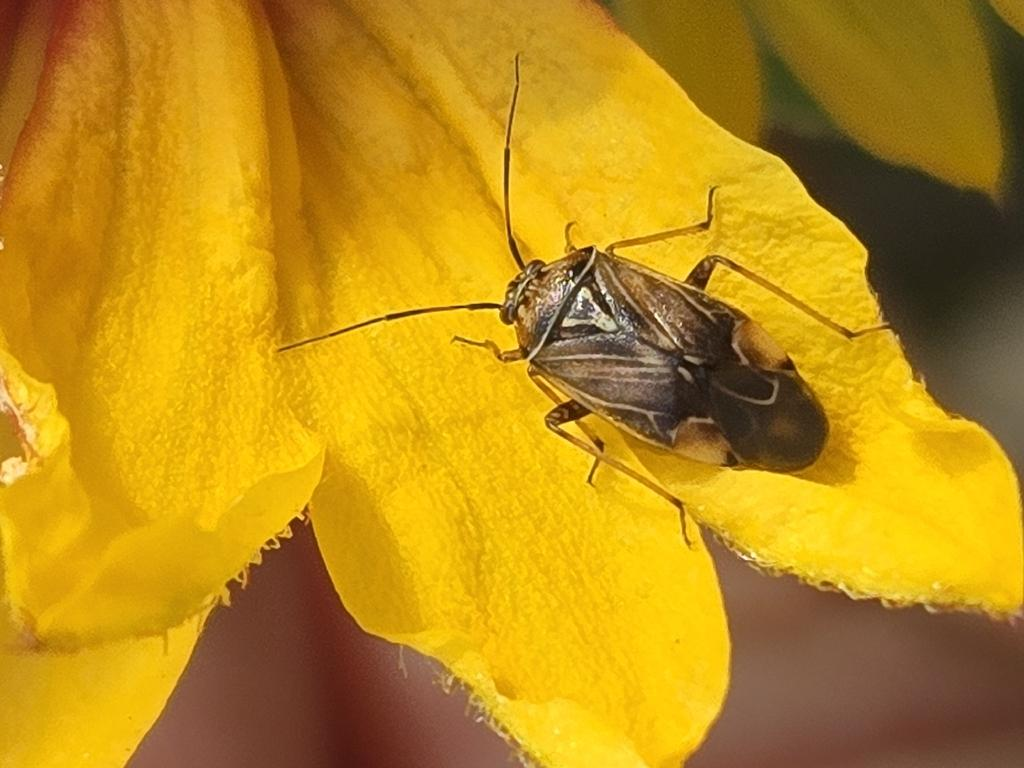plant_bugs: (213, 21, 954, 583)
